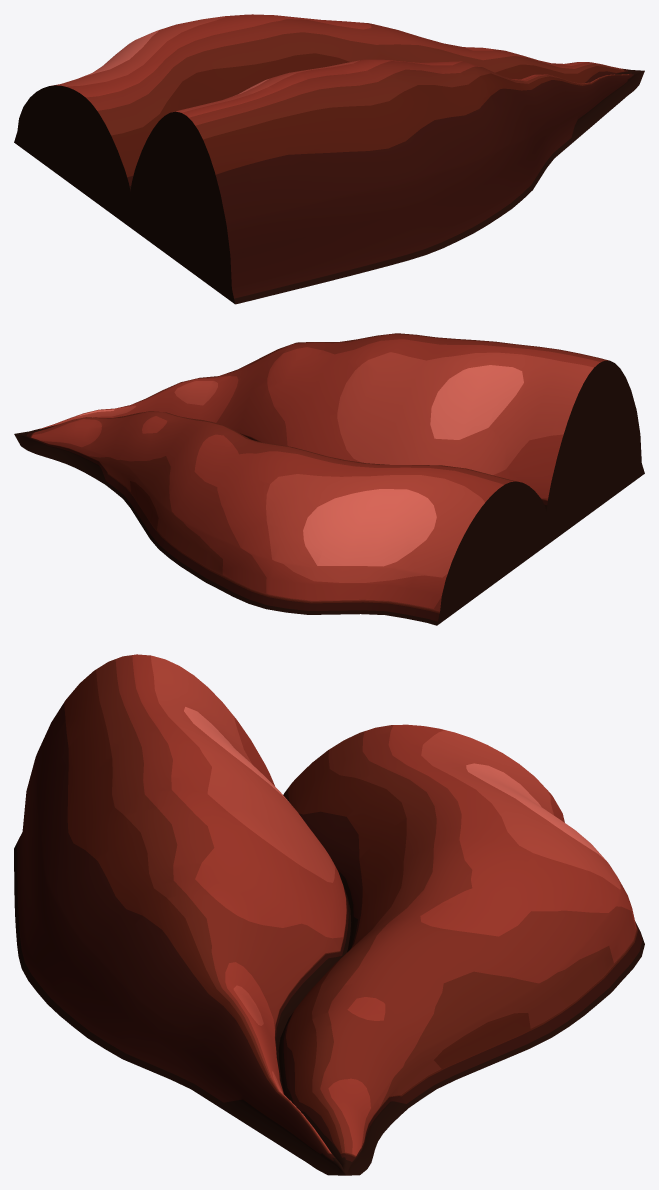
The model's file is eyespy_lips_right.glb.
3 renders of one model, top to bottom at view 1: azimuth 30°, elevation 25°; view 2: azimuth 150°, elevation 25°; view 3: azimuth 270°, elevation 25°, orthographic. The views are drawn at different scales.
Parts seen in each view (by area): view 1: eyespy_lips_right; view 2: eyespy_lips_right; view 3: eyespy_lips_right.
Boxes of the visible parts, x1=… form: eyespy_lips_right: x1=14, y1=14, x2=644, y2=304; eyespy_lips_right: x1=14, y1=333, x2=644, y2=625; eyespy_lips_right: x1=14, y1=654, x2=644, y2=1175.
Bounding box in the file's own units: 23.25 × 6.3 × 18.53.
